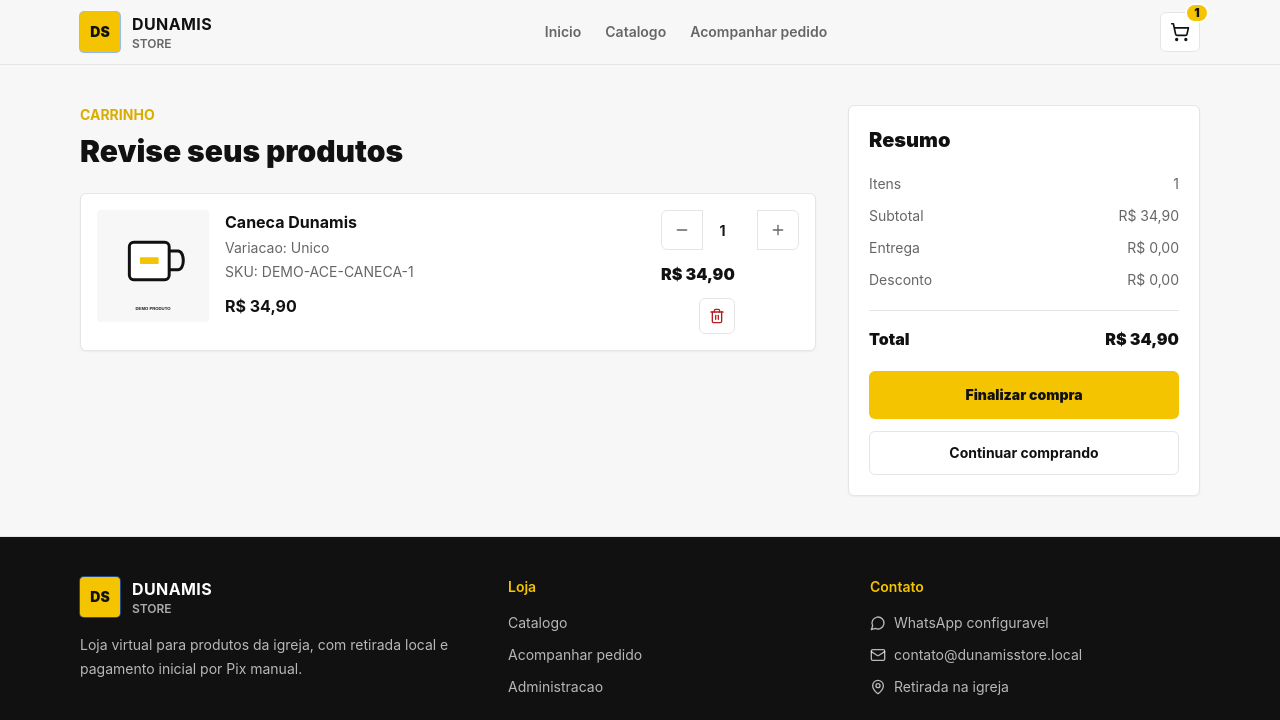
Test: CartPage › removes an item from the cart
Click the button named "Remover Caneca Dunamis".
click(717, 316)  # box [699,298,735,334]
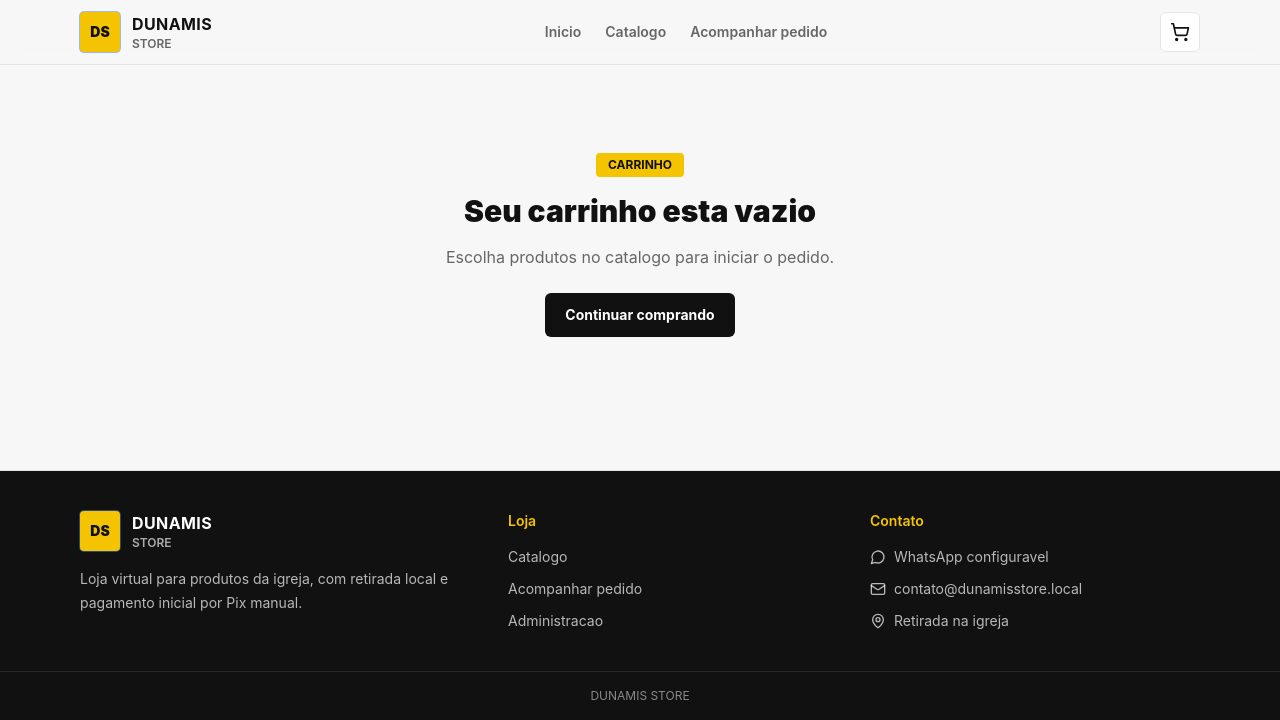
Check: the heading "Seu carrinho esta vazio" is shown, box [464,193,816,229]
